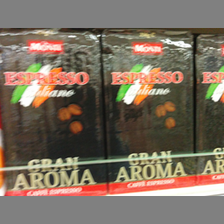coffee: (1, 29, 108, 195), (101, 28, 195, 194)
